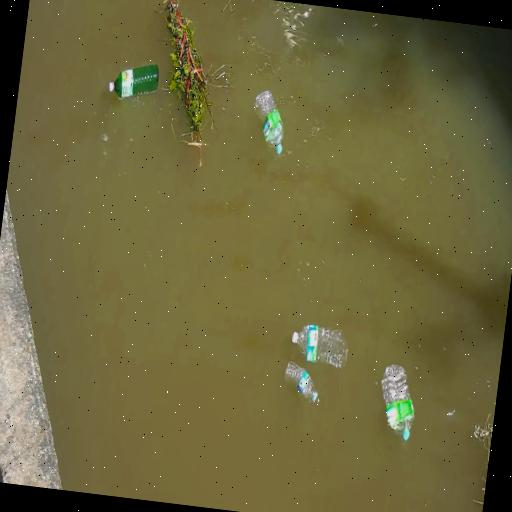plastic: (371, 360, 420, 441), (104, 55, 166, 113), (283, 320, 351, 369), (247, 84, 290, 158), (281, 360, 329, 404)
twig: (142, 0, 227, 132)
